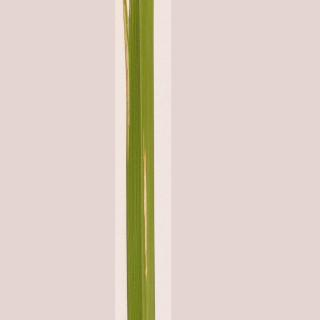Hawar-Daun: (115, 7, 142, 185), (131, 148, 157, 273)
